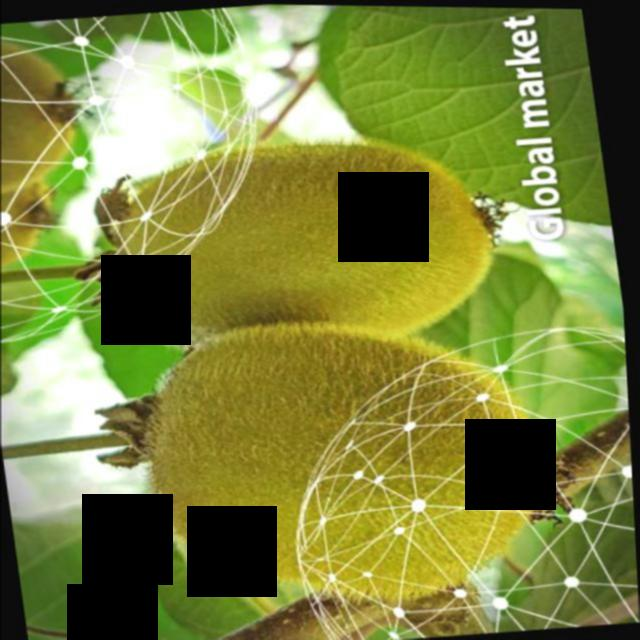kiwi: (82, 303, 560, 630), (62, 120, 536, 372)
